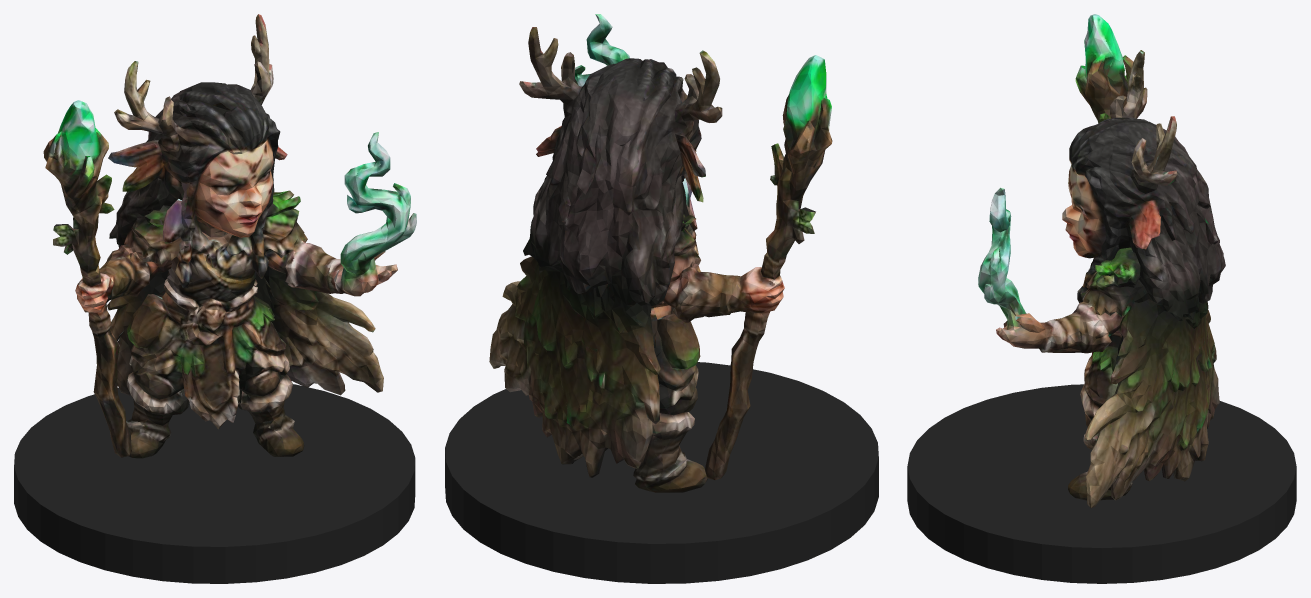
Rendered from wm-tanith.glb.
The picture shows the model from 3 angles, left to right: view 1: azimuth 30°, elevation 25°; view 2: azimuth 150°, elevation 25°; view 3: azimuth 270°, elevation 25°; orthographic projection. The views are drawn at different scales.
Visible parts, largest first — view 1: figure, base; view 2: figure, base; view 3: figure, base.
Boxes of the visible parts, <box> form: figure: <box>43,14,416,458</box>; base: <box>14,384,415,583</box>; figure: <box>489,14,832,492</box>; base: <box>445,362,878,583</box>; figure: <box>978,14,1225,507</box>; base: <box>907,384,1296,583</box>.
Size of the model in its own units: 1.18 by 1.42 by 1.18.
Materials: 2 (1 with a texture image).
